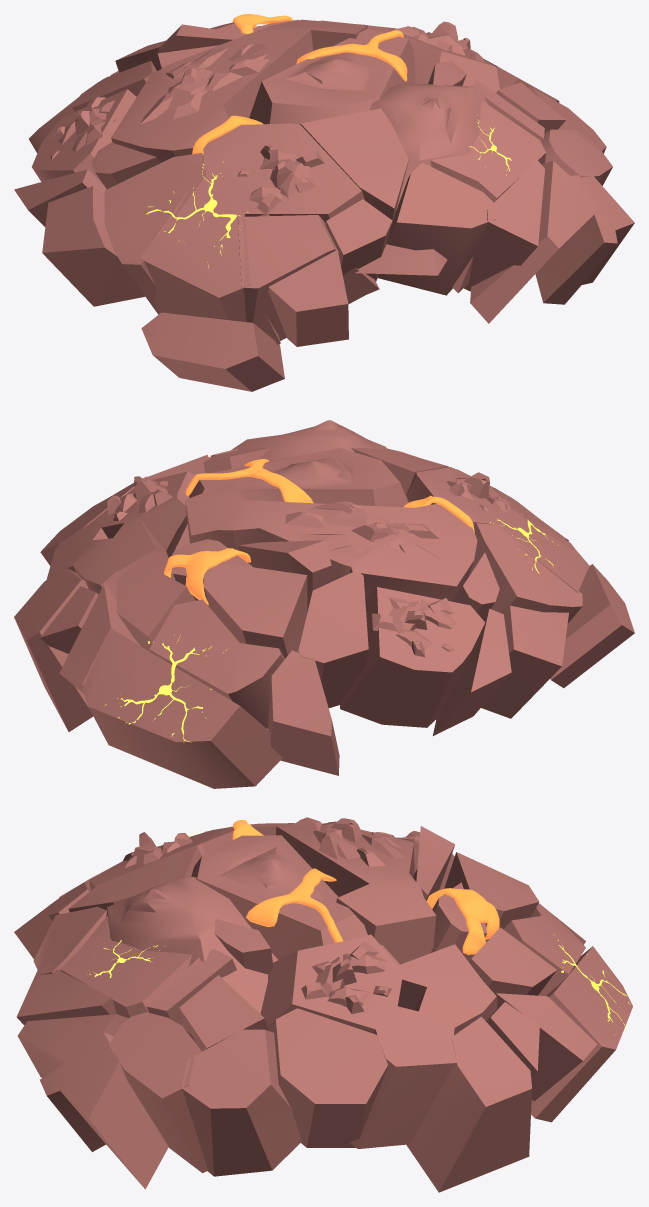
File: mdl_planet_plane_voronoi.fbx
3 views of the same model, one above another, from view 1: azimuth 30°, elevation 25°; view 2: azimuth 150°, elevation 25°; view 3: azimuth 270°, elevation 25° (orthographic). The views are drawn at different scales.
Visible parts, largest first — view 1: Planet_side_fracture.002_cell.020, Cube.003, lava_tubes, Cube.005, Cube.006, Cube.004, lava_volcano.001; view 2: Planet_side_fracture.002_cell.020, Cube.003, lava_tubes, Cube.006, Cube.004, Cube.005, lava_volcano; view 3: Planet_side_fracture.002_cell.020, lava_tubes, Cube.004, Cube.003, Cube.005.
Part boxes in pixels (bbox=[...]): Planet_side_fracture.002_cell.020: bbox=[14, 19, 634, 391]; Cube.003: bbox=[140, 43, 269, 124]; lava_tubes: bbox=[192, 14, 407, 154]; Cube.005: bbox=[237, 144, 324, 216]; Cube.006: bbox=[50, 97, 115, 159]; Cube.004: bbox=[392, 21, 484, 61]; lava_volcano.001: bbox=[146, 161, 248, 268]; Planet_side_fracture.002_cell.020: bbox=[14, 420, 634, 788]; Cube.003: bbox=[285, 501, 444, 563]; lava_tubes: bbox=[164, 459, 474, 605]; Cube.006: bbox=[372, 597, 456, 657]; Cube.004: bbox=[107, 476, 172, 520]; Cube.005: bbox=[433, 468, 515, 512]; lava_volcano: bbox=[105, 634, 227, 742]; Planet_side_fracture.002_cell.020: bbox=[14, 823, 632, 1192]; lava_tubes: bbox=[232, 820, 499, 954]; Cube.004: bbox=[301, 941, 391, 1014]; Cube.003: bbox=[292, 817, 406, 867]; Cube.005: bbox=[123, 832, 192, 868].
Bounding box in the file's own units: 18939 × 7903 × 18986.
